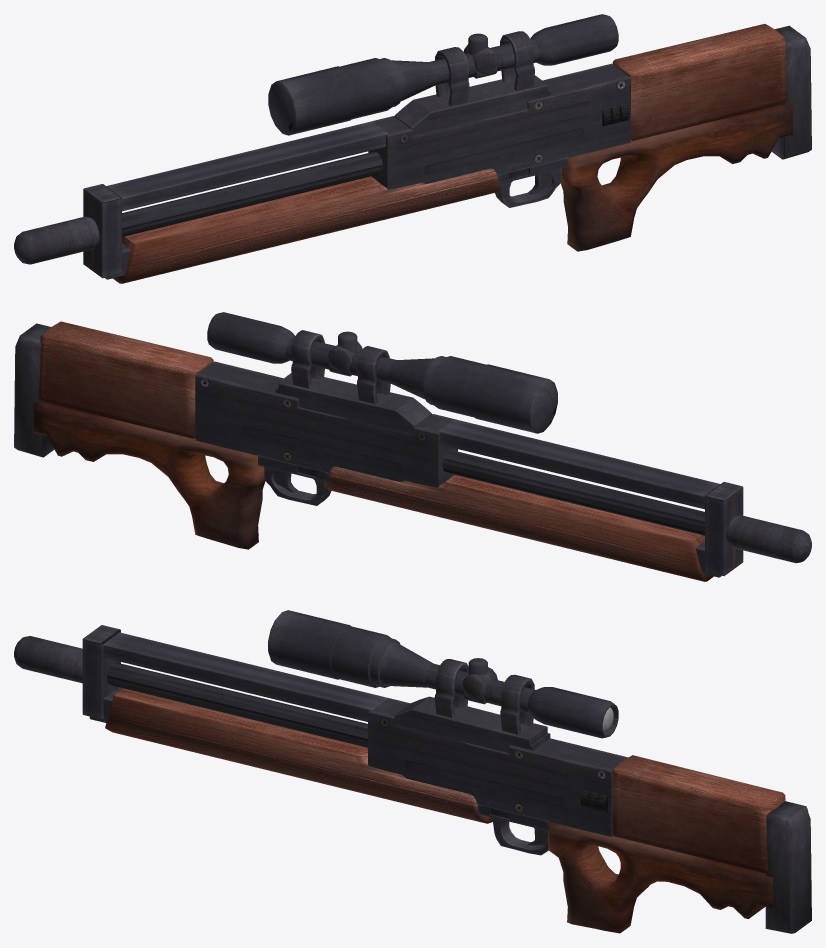
File: walther.FBX
3 views of the same model, one above another, from view 1: azimuth 30°, elevation 25°; view 2: azimuth 150°, elevation 25°; view 3: azimuth 330°, elevation 25° (orthographic).
Parts seen in each view (by area): view 1: Box13; view 2: Box13; view 3: Box13.
Boxes of the visible parts, bbox=[...] form: Box13: bbox=[14, 14, 811, 283]; Box13: bbox=[14, 312, 811, 581]; Box13: bbox=[14, 610, 811, 933].
Bounding box in the file's own units: 375 × 107 × 22.48.
Materials: 2 (1 with a texture image).
